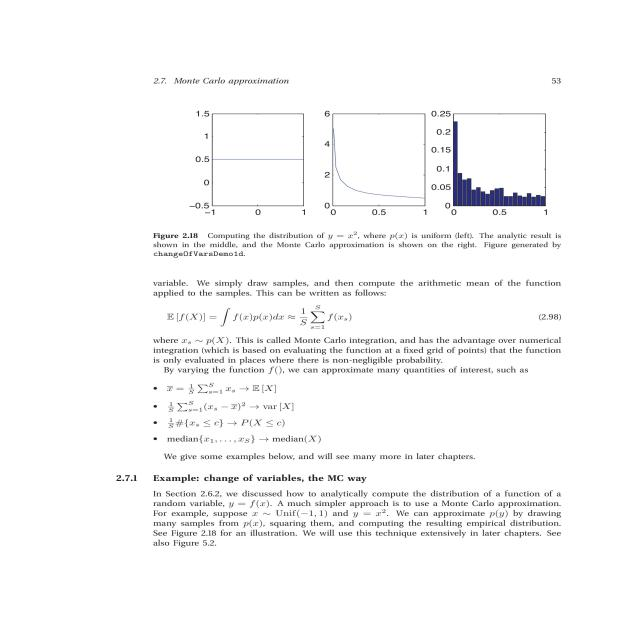diagram: (122, 101, 587, 261)
